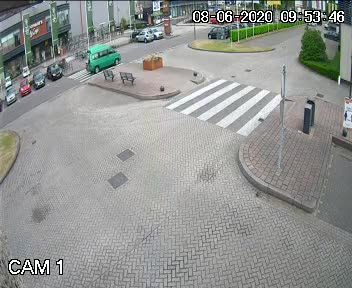car: (78, 41, 127, 76)
